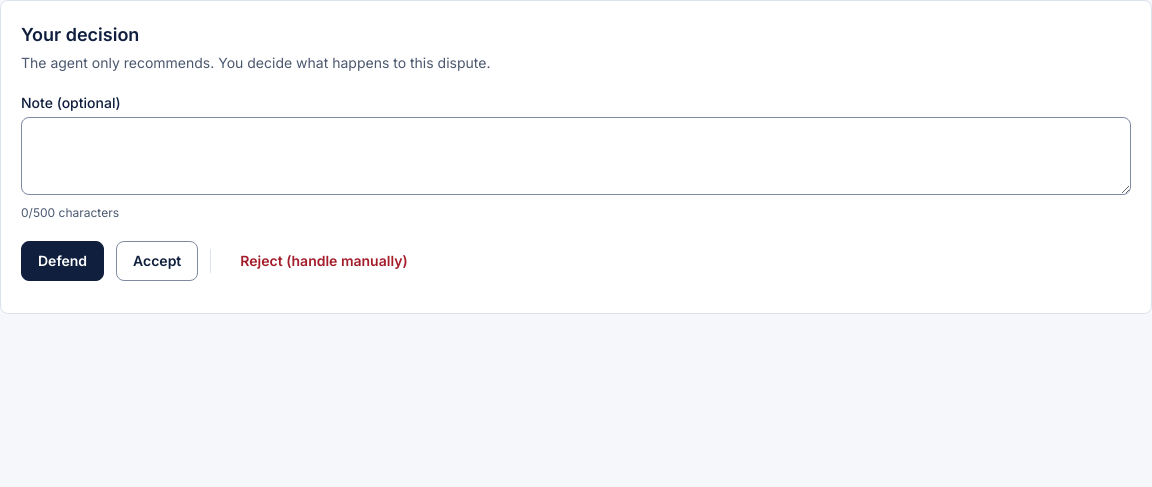
Test: blocking flag override: confirm before defending › shows nothing until Defend is selected, then warns naming the blocking flags only
The image size is (1152, 487).
Expected: the text "defending overrides" is not shown
Click the button "Defend".
click(63, 261)  # box [21,241,104,281]
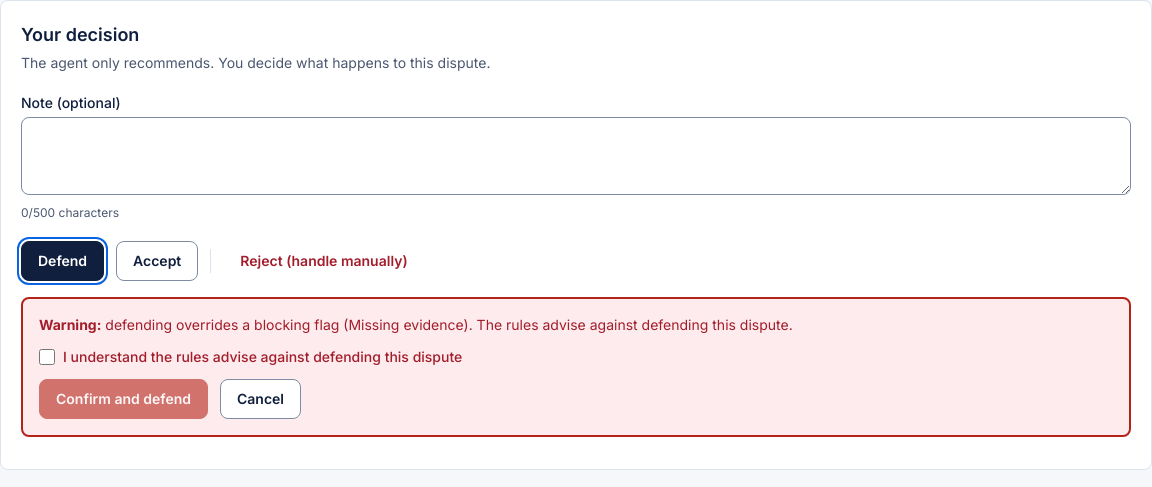
Expected: the text "defending overrides" does not show "Deadline at risk", [39,316,793,333]
Expected: the text "defending overrides" shows "Warning:", [39,316,101,333]
Expected: the text "defending overrides" shows "Missing evidence", [348,316,464,333]
